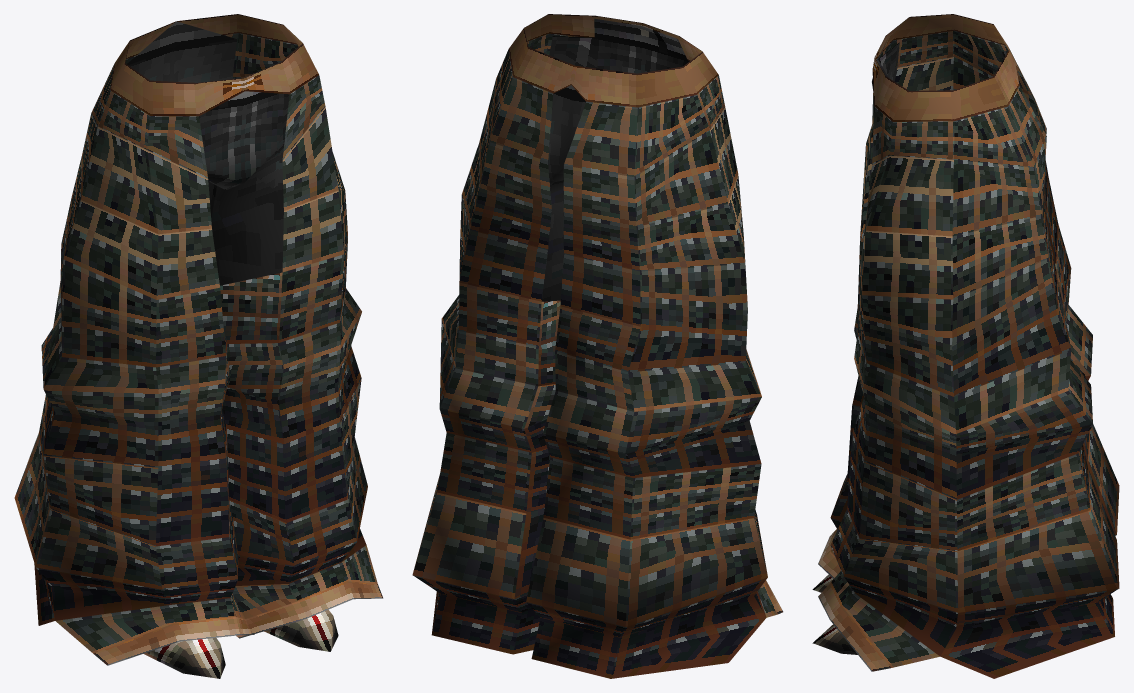
File: m_legging022.obj
The picture shows the model from 3 angles, left to right: view 1: azimuth 30°, elevation 25°; view 2: azimuth 150°, elevation 25°; view 3: azimuth 270°, elevation 25°; orthographic projection.
Visible parts, largest first — view 1: mesh00, mesh03, mesh02; view 2: mesh00, mesh03; view 3: mesh00, mesh02, mesh03.
Part boxes in pixels (<box>): mesh00: <box>14,14,383,665</box>; mesh03: <box>127,21,289,285</box>; mesh02: <box>143,609,338,678</box>; mesh00: <box>412,14,783,678</box>; mesh03: <box>541,18,689,301</box>; mesh00: <box>818,14,1119,678</box>; mesh02: <box>812,574,857,654</box>; mesh03: <box>872,42,1008,92</box>.
Size of the model in its own units: 65.48 by 108 by 52.89.
Materials: 5 (5 with a texture image).
